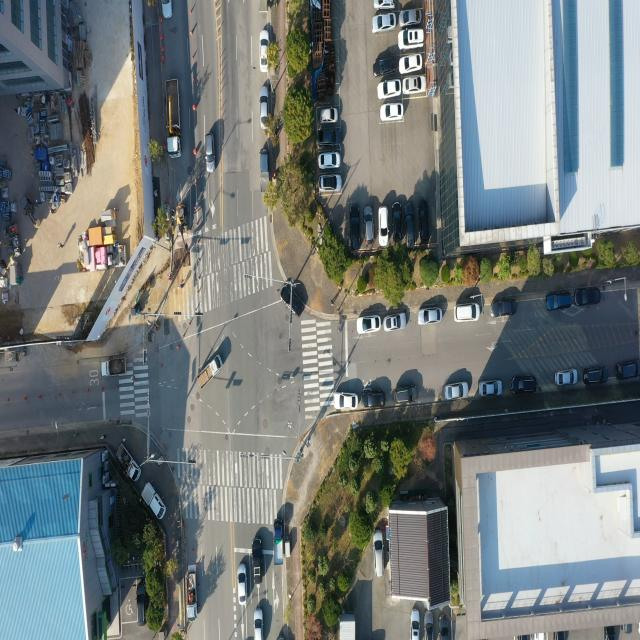car: (280, 282, 303, 321), (611, 358, 640, 384), (545, 292, 572, 314), (361, 387, 387, 409), (404, 200, 416, 246), (390, 201, 402, 243), (252, 539, 263, 584), (373, 12, 397, 32), (333, 392, 357, 412), (453, 305, 479, 323), (511, 376, 537, 394), (490, 300, 516, 318), (418, 200, 429, 242), (381, 103, 404, 123), (374, 58, 397, 78), (400, 55, 424, 74), (445, 382, 470, 400), (378, 79, 401, 98), (401, 29, 424, 48), (418, 308, 442, 326), (554, 369, 578, 387), (576, 288, 600, 306), (350, 206, 360, 249), (383, 314, 407, 331), (375, 531, 384, 576), (260, 31, 270, 71), (400, 8, 422, 26), (364, 204, 374, 243), (358, 316, 380, 333), (406, 75, 426, 93), (379, 207, 389, 243), (319, 175, 340, 192), (582, 366, 604, 382), (319, 129, 338, 147), (238, 566, 247, 604), (319, 151, 339, 168), (410, 606, 420, 640), (393, 388, 414, 404), (261, 85, 270, 122), (480, 381, 502, 396), (424, 609, 434, 640), (438, 612, 449, 640), (320, 107, 337, 124), (206, 134, 214, 170), (161, 0, 173, 21), (254, 610, 262, 640), (375, 0, 397, 10)
medium_truck: (164, 82, 181, 157)
small_truck: (196, 350, 225, 389), (140, 482, 166, 520), (116, 444, 140, 484), (186, 565, 199, 620), (101, 358, 128, 379), (273, 523, 284, 567), (259, 147, 269, 190)
